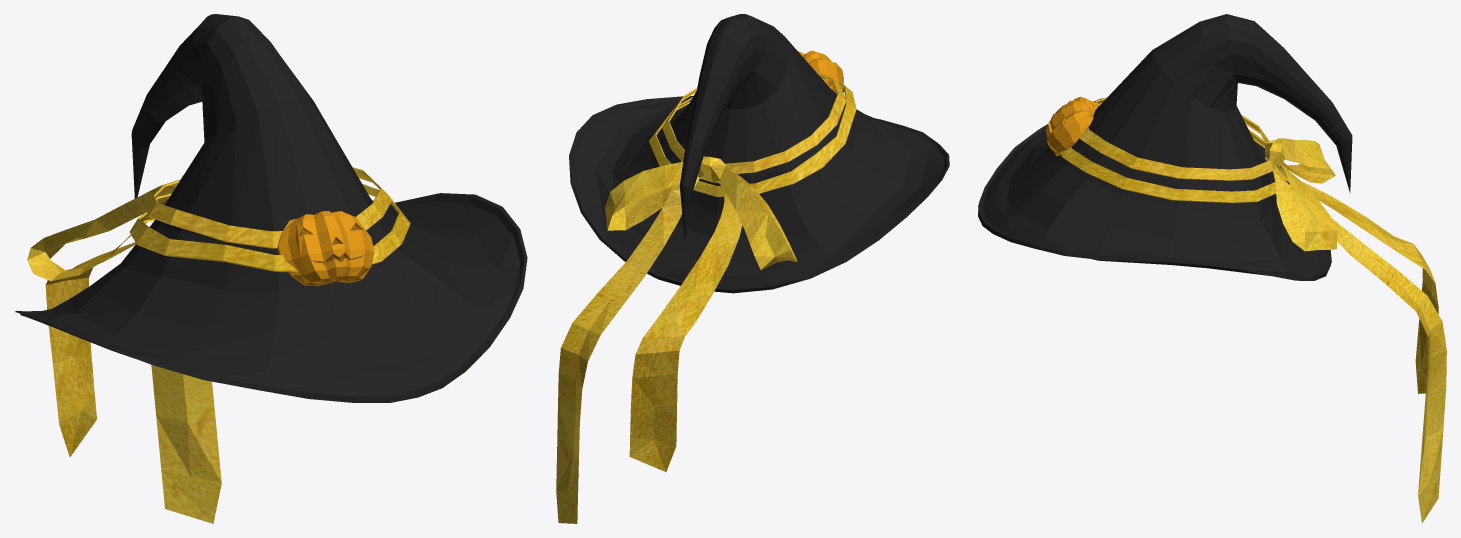
Rendered from mhw_elvs_witchy_hallows_hat1.glb.
3 views of the same model, side by side, from view 1: azimuth 30°, elevation 25°; view 2: azimuth 150°, elevation 25°; view 3: azimuth 270°, elevation 25° (orthographic). The views are drawn at different scales.
Parts seen in each view (by area): view 1: mhw_elvs_witchy_hallows_hat1; view 2: mhw_elvs_witchy_hallows_hat1; view 3: mhw_elvs_witchy_hallows_hat1.
Part boxes in pixels (left/top/right/bottom): mhw_elvs_witchy_hallows_hat1: left=15, top=14, right=527, bottom=523; mhw_elvs_witchy_hallows_hat1: left=556, top=14, right=949, bottom=523; mhw_elvs_witchy_hallows_hat1: left=978, top=14, right=1446, bottom=523.
Bounding box in the file's own units: 0.5348 × 0.6943 × 0.6302.
Materials: 1 (1 with a texture image).
